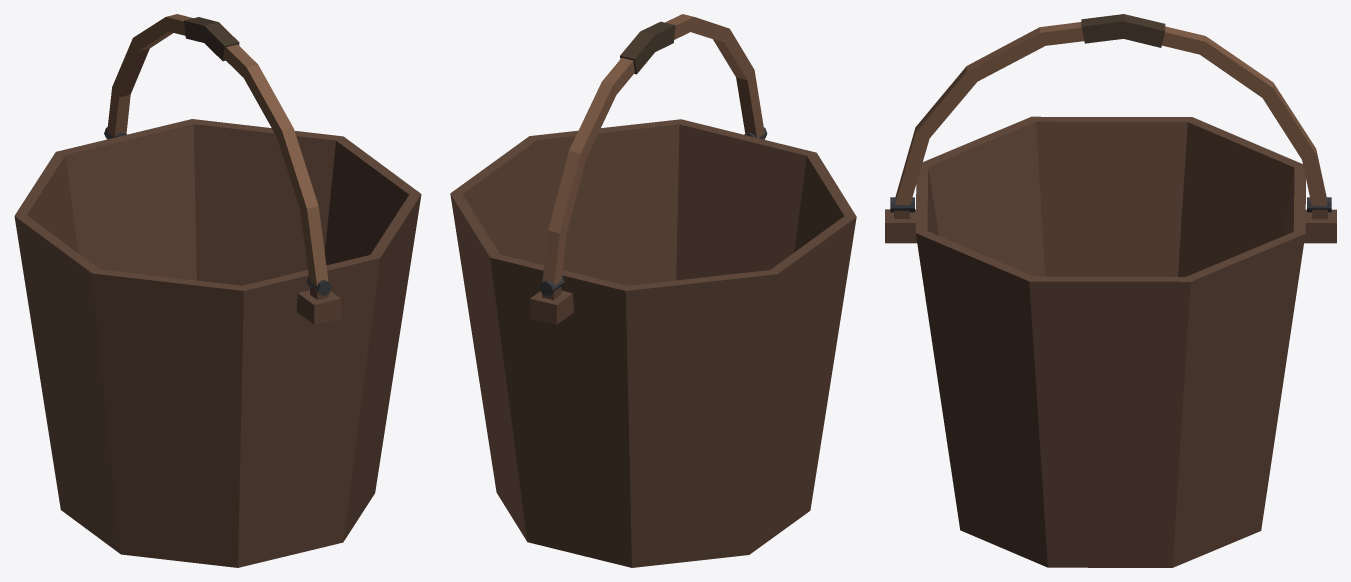
Rendered from Bucket_01.gltf.
3 renders of one model, left to right at view 1: azimuth 30°, elevation 25°; view 2: azimuth 150°, elevation 25°; view 3: azimuth 270°, elevation 25°, orthographic. The views are drawn at different scales.
Parts seen in each view (by area): view 1: Bucket_01, Circle.002; view 2: Bucket_01, Circle.002; view 3: Bucket_01, Circle.002.
Boxes of the visible parts, x1,y1,x2,y2 form: Bucket_01: (14, 119, 421, 567); Circle.002: (104, 14, 331, 295); Bucket_01: (450, 119, 856, 567); Circle.002: (539, 14, 767, 295); Bucket_01: (885, 116, 1336, 567); Circle.002: (890, 14, 1331, 212).
Bounding box in the file's own units: 0.3032 × 0.4167 × 0.3507.
